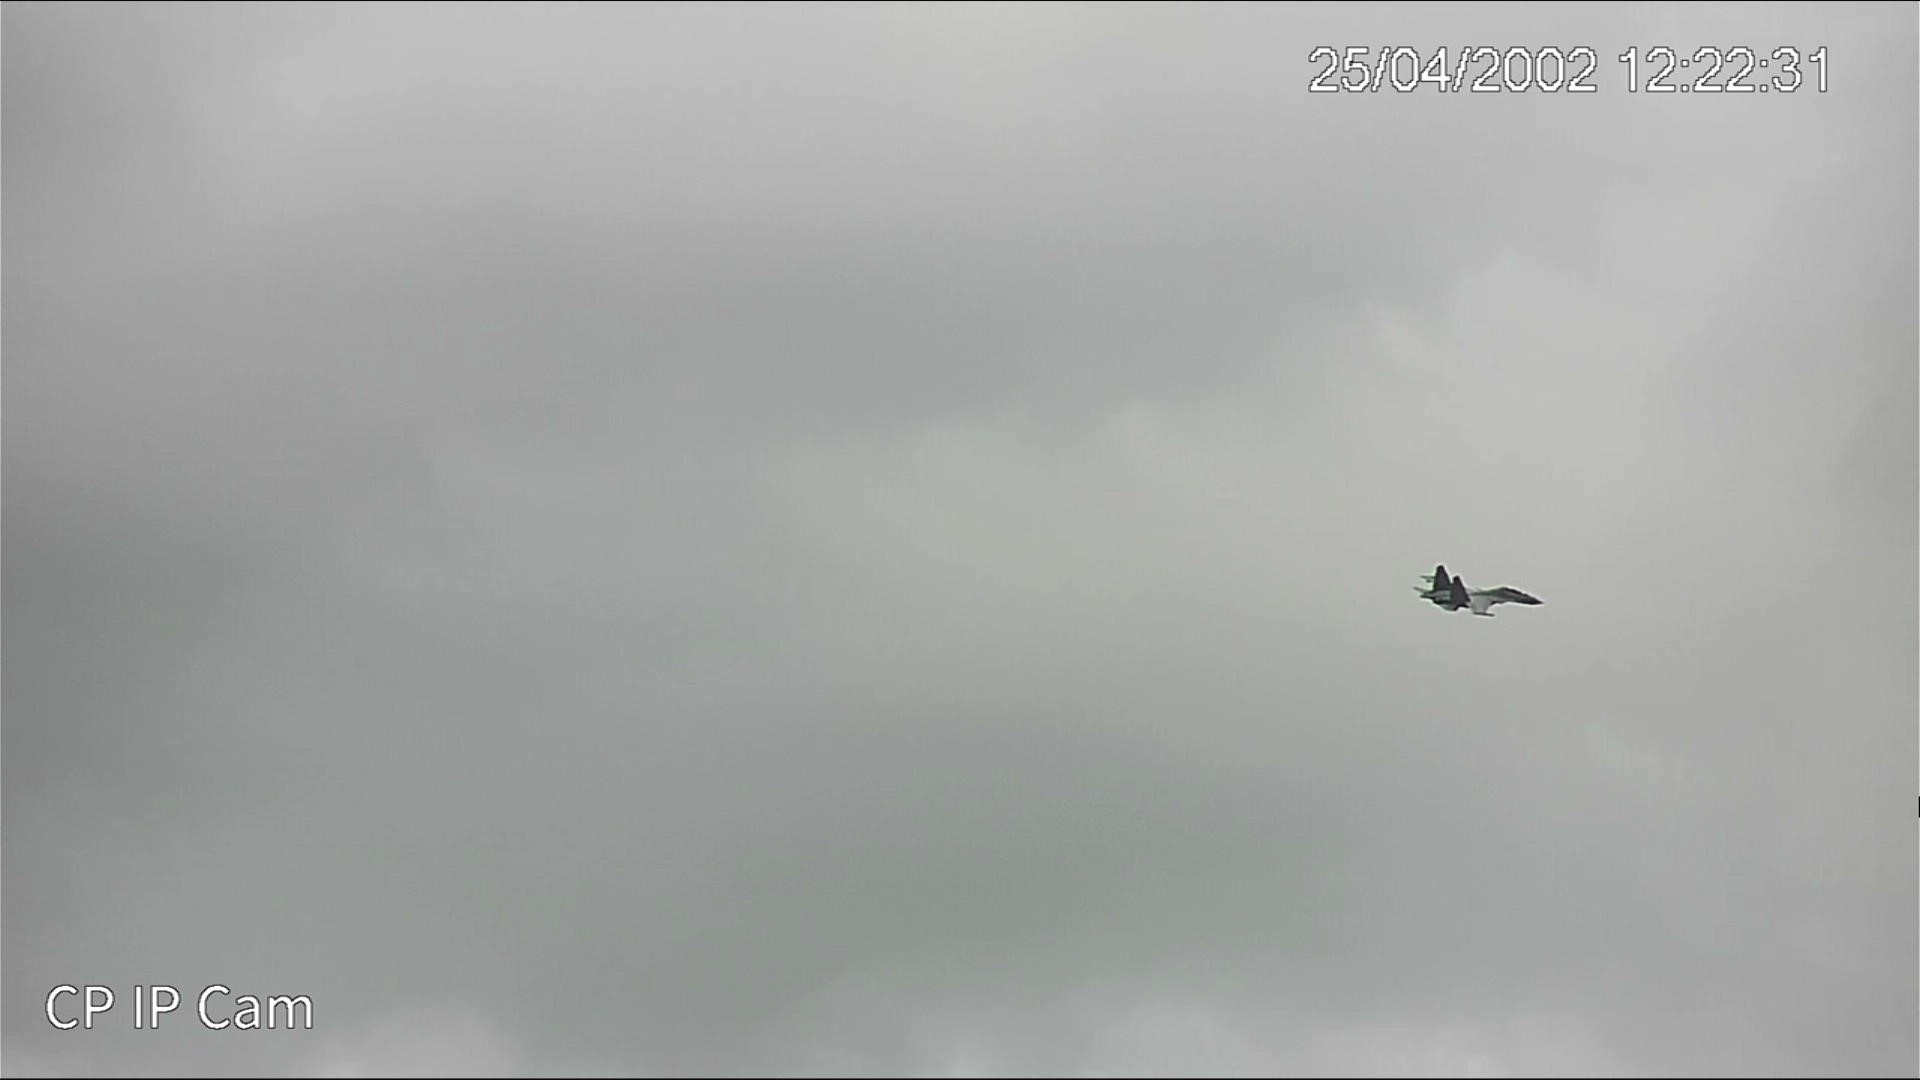SU_30: (1418, 563, 1547, 618)
